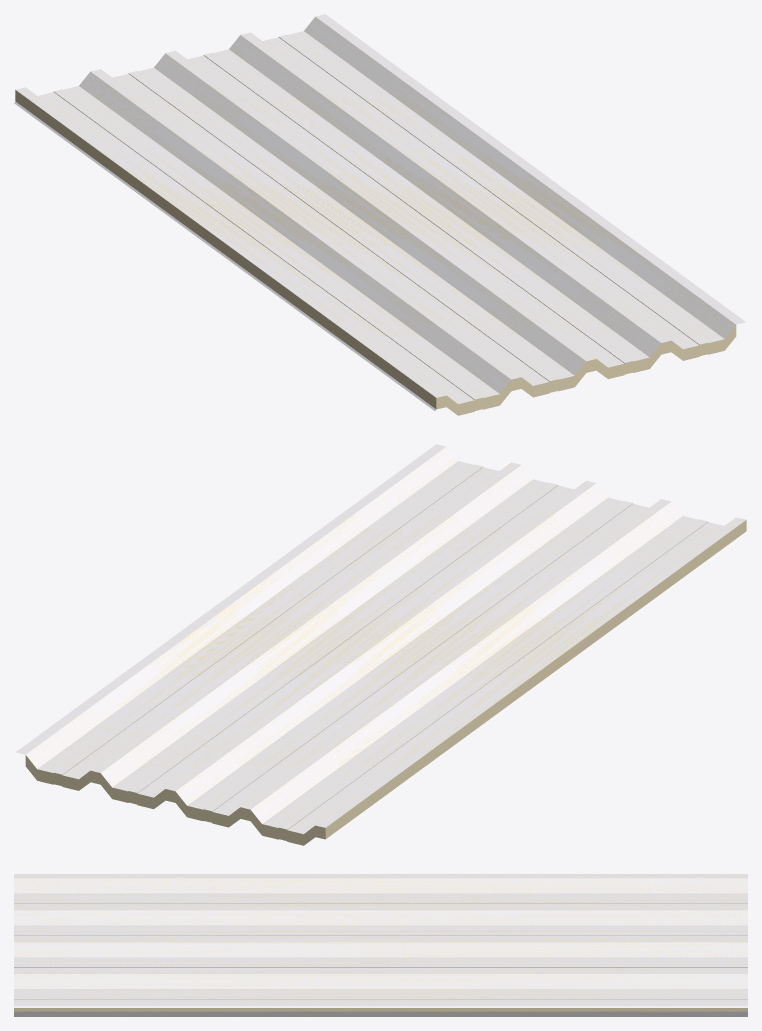
File: telhado(1).glb
3 renders of one model, top to bottom at view 1: azimuth 30°, elevation 25°; view 2: azimuth 150°, elevation 25°; view 3: azimuth 270°, elevation 25°, orthographic. The views are drawn at different scales.
Parts seen in each view (by area): view 1: cima, meio, instance_0.003, instance_0.004; view 2: cima, meio, instance_0.003, instance_0.004; view 3: cima, instance_0.003, baixo, meio.
Boxes of the visible parts, x1,y1,x2,y2 form: cima: [16, 16, 735, 404]; meio: [15, 90, 736, 415]; instance_0.003: [315, 14, 745, 324]; instance_0.004: [14, 101, 436, 410]; cima: [26, 446, 745, 834]; meio: [25, 520, 746, 845]; instance_0.003: [16, 444, 446, 754]; instance_0.004: [325, 531, 747, 840]; cima: [14, 874, 747, 1001]; instance_0.003: [14, 1001, 747, 1007]; baixo: [14, 1011, 747, 1016]; meio: [14, 1008, 747, 1011].
Size of the model in its own units: 1.07 by 0.076 by 2.5.
